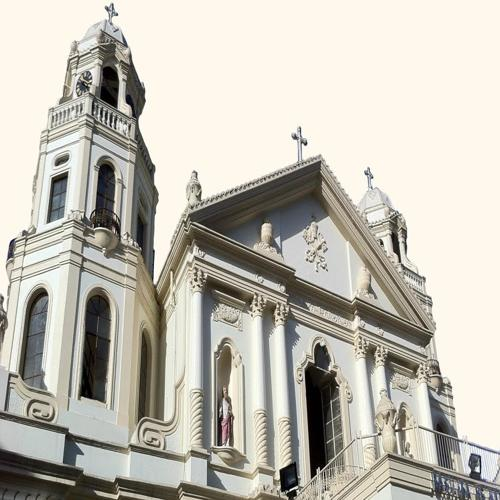Quiapo Church: (14, 4, 491, 495)
